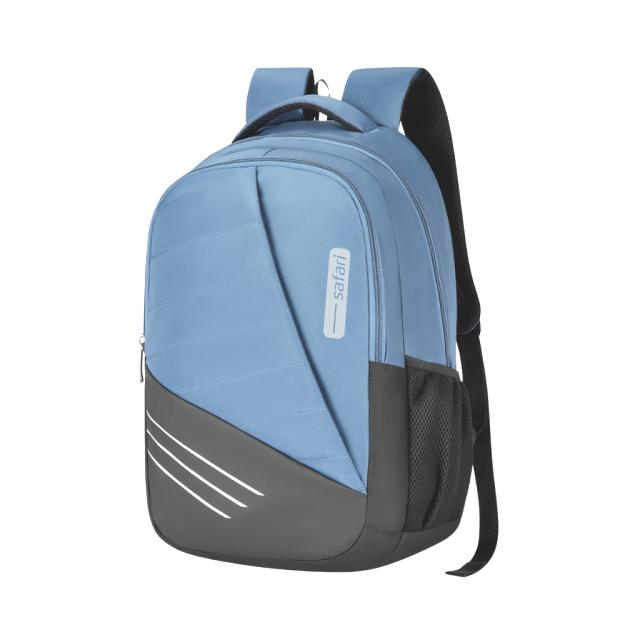backpack: (140, 66, 500, 578)
